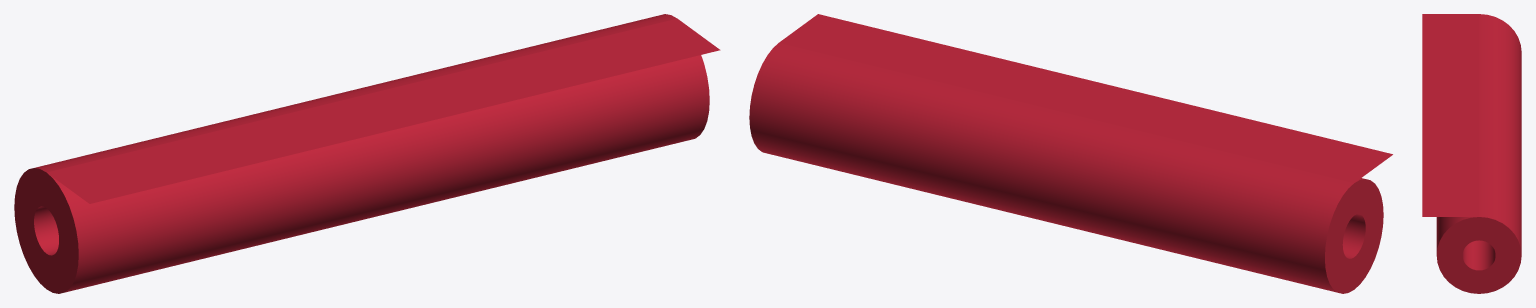
The model's file is Pellicola_aniamazione.fbx.
The picture shows the model from 3 angles, left to right: view 1: azimuth 30°, elevation 25°; view 2: azimuth 150°, elevation 25°; view 3: azimuth 270°, elevation 25°; orthographic projection. The views are drawn at different scales.
Parts seen in each view (by area): view 1: Toilet paper dispenser; view 2: Toilet paper dispenser; view 3: Toilet paper dispenser.
Boxes of the visible parts, x1,y1,x2,y2 form: Toilet paper dispenser: (14, 14, 720, 293); Toilet paper dispenser: (749, 14, 1392, 293); Toilet paper dispenser: (1422, 14, 1521, 293).
Bounding box in the file's own units: 198 × 35.04 × 40.96.
